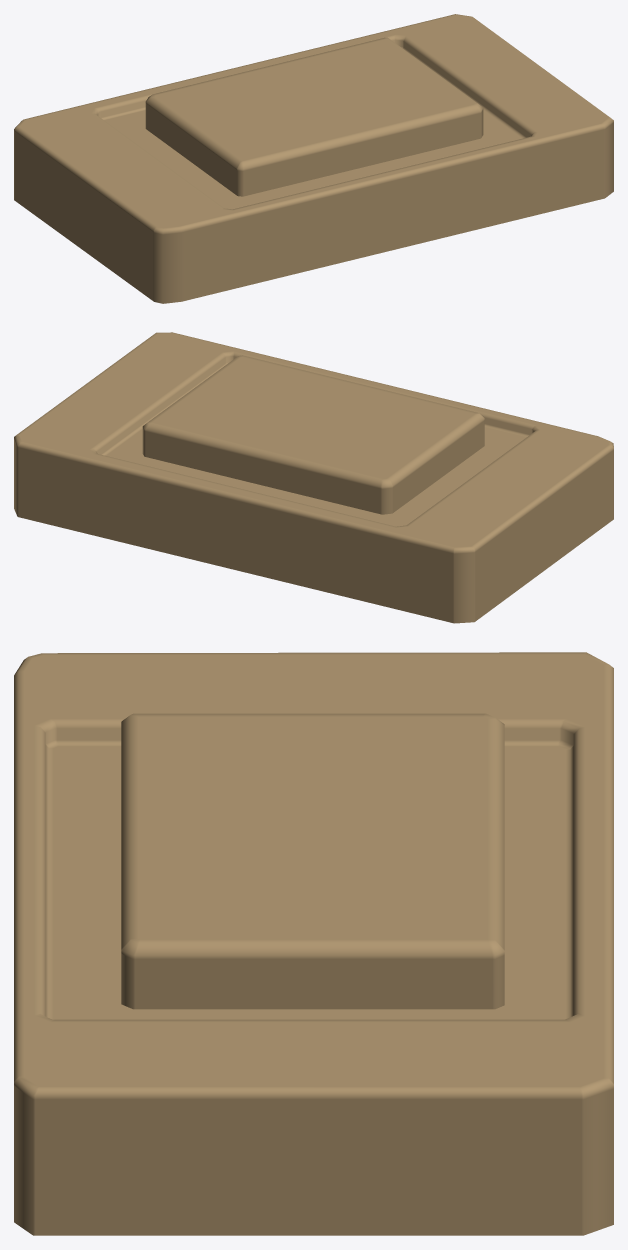
File: ButtonStone_01.fbx
3 renders of one model, top to bottom at view 1: azimuth 30°, elevation 25°; view 2: azimuth 150°, elevation 25°; view 3: azimuth 270°, elevation 25°, orthographic. The views are drawn at different scales.
Parts seen in each view (by area): view 1: StoneButton_01, Group1; view 2: StoneButton_01, Group1; view 3: StoneButton_01, Group1.
Part boxes in pixels (x1,y1,x2,y2): StoneButton_01: [14, 14, 613, 303]; Group1: [145, 37, 483, 196]; StoneButton_01: [14, 332, 613, 623]; Group1: [142, 355, 484, 514]; StoneButton_01: [14, 652, 613, 1235]; Group1: [121, 713, 504, 1009].
Size of the model in its own units: 2.42 by 0.48 by 1.39.
